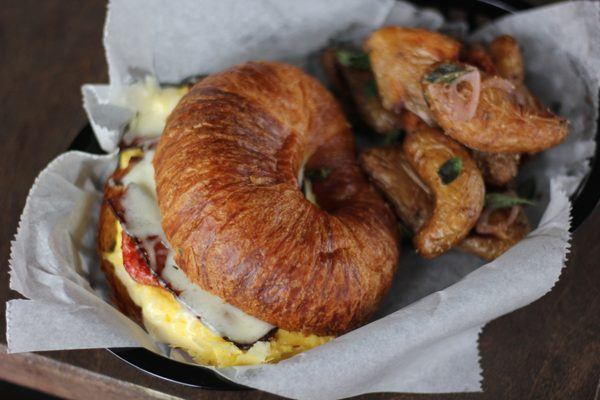soup: (95, 58, 406, 369)
